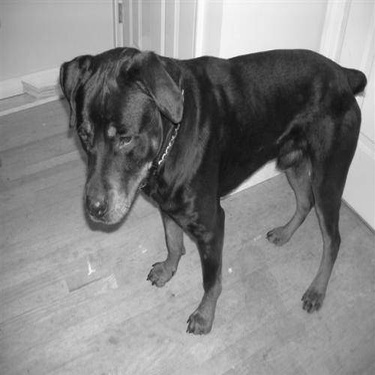dog: (49, 45, 371, 339)
